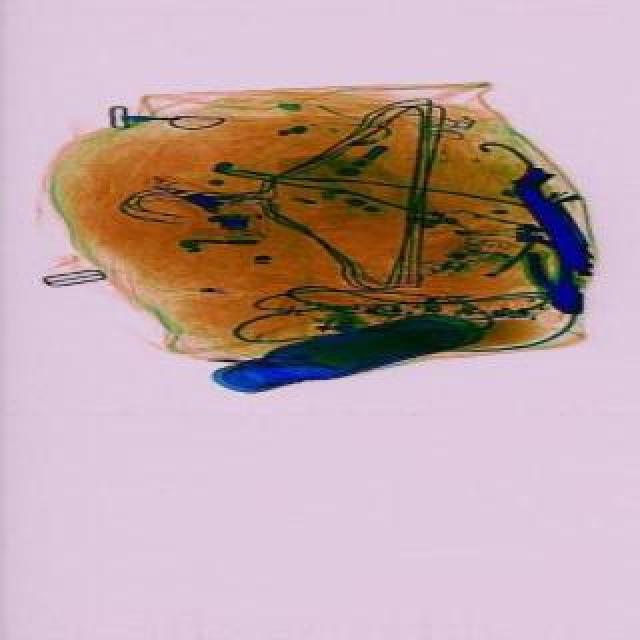wrench: (522, 242, 586, 326)
